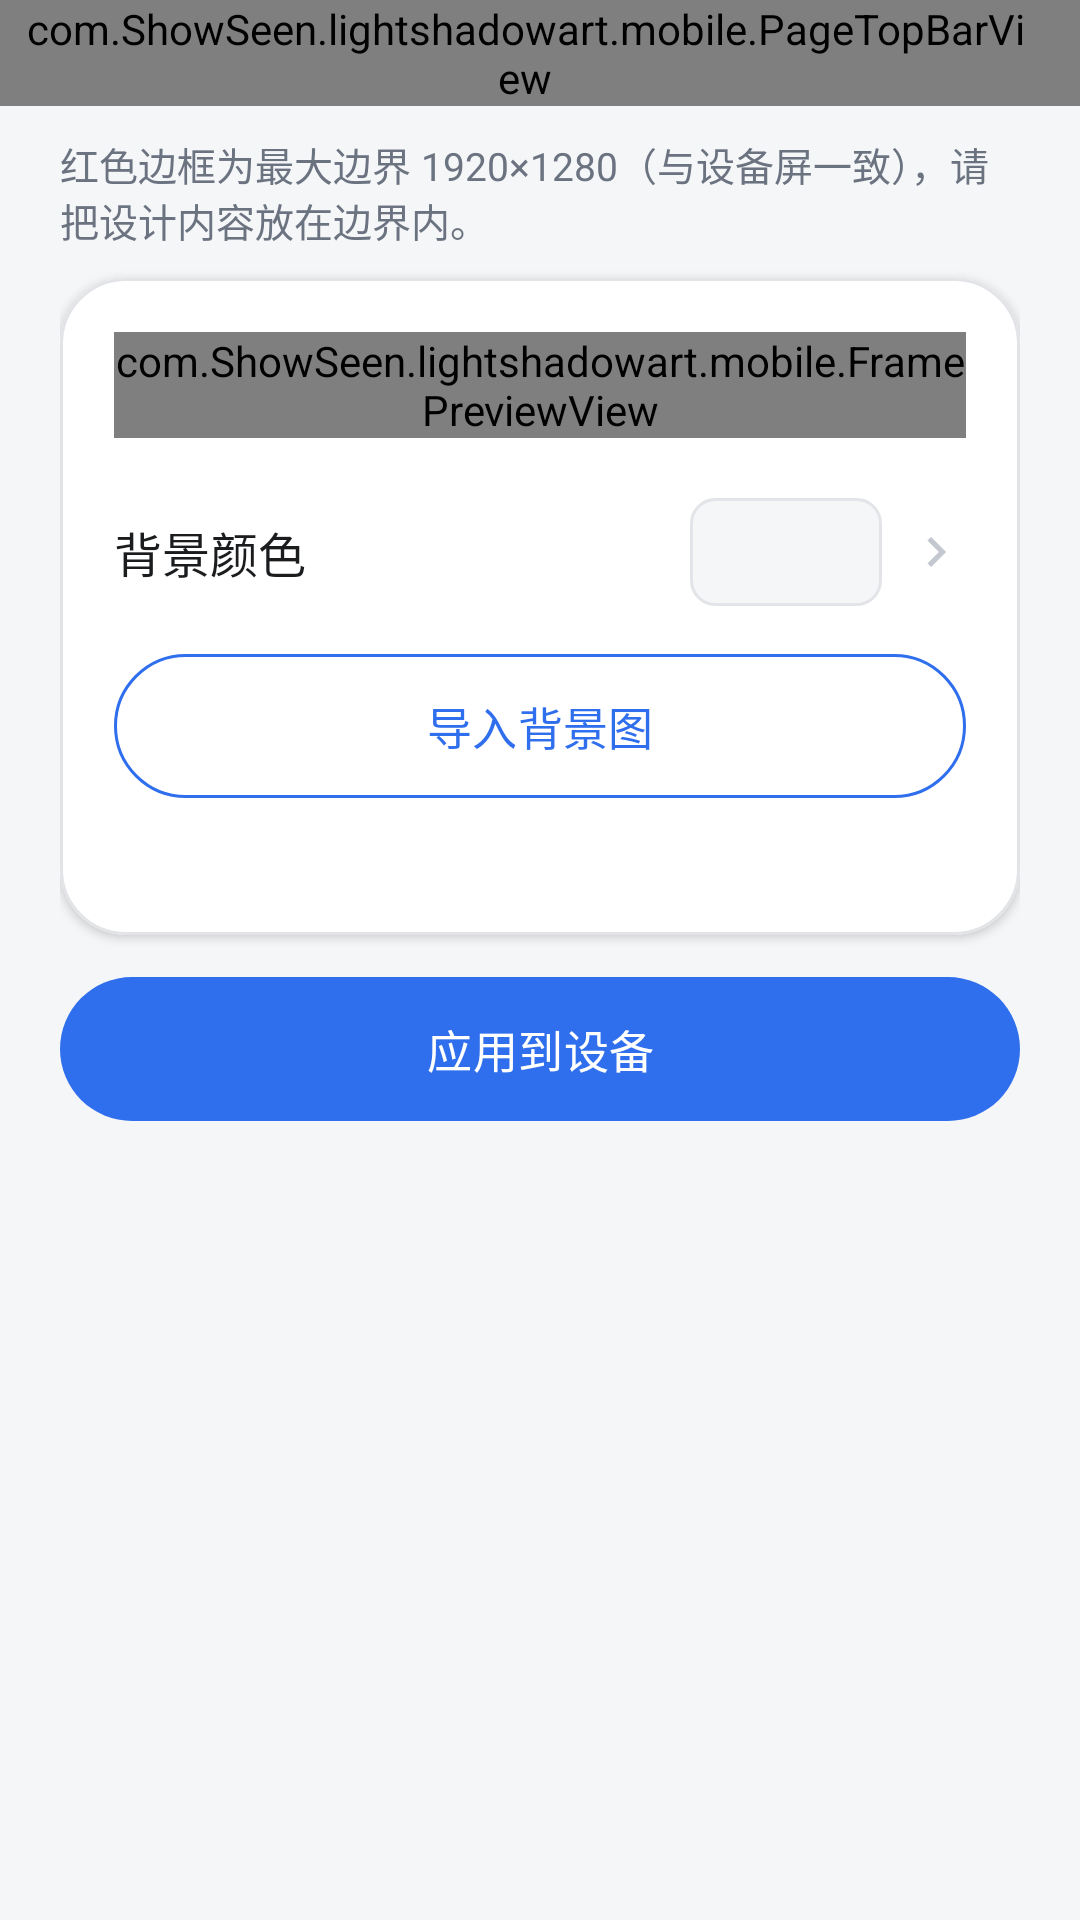

Screen size 1080×1920. Icon name, then its box in pixels as (x1, y1, x2, y2):
chevron right: (928, 537, 946, 567)
